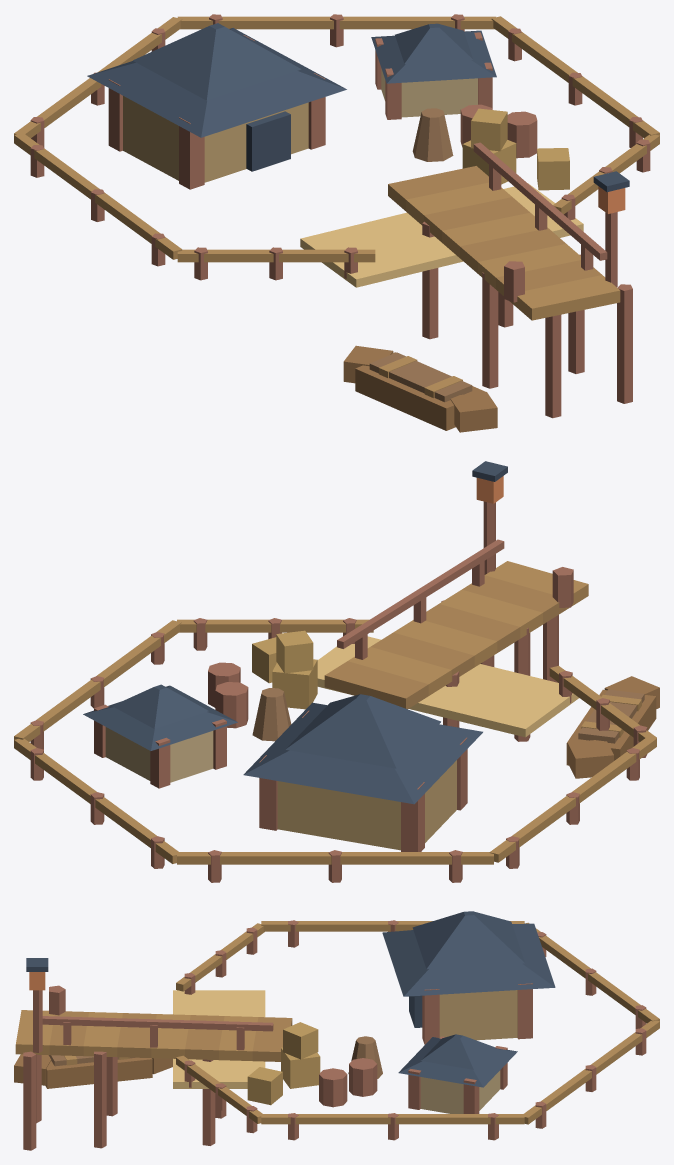
The model's file is port-small.glb.
3 views of the same model, one above another, from view 1: azimuth 30°, elevation 25°; view 2: azimuth 150°, elevation 25°; view 3: azimuth 270°, elevation 25° (orthographic). The views are drawn at different scales.
Parts seen in each view (by area): view 1: house_eave, shore_sand, house_roof, house_body, fence_rail_0, shed_eave, pier_plank_0, boat_hull, fence_rail_2, fence_rail_5, shed_body, fence_rail_3 (+32 smaller); view 2: house_eave, shore_sand, house_body, house_roof, fence_rail_1, shed_body, shed_eave, pier_plank_7, fence_rail_2, fence_rail_5, fence_rail_0, shed_roof (+30 smaller); view 3: house_eave, house_roof, shore_sand, house_body, fence_rail_5, shed_eave, rail_bar, boat_hull, shed_body, fence_rail_0, shed_roof, fence_rail_2 (+30 smaller).
Part boxes in pixels (box(x1,y1,x2,y2)): house_eave: box(87, 28, 346, 137); shore_sand: box(300, 183, 583, 287); house_roof: box(133, 23, 301, 100); house_body: box(123, 96, 308, 182); fence_rail_0: box(177, 16, 495, 29); shed_eave: box(371, 30, 496, 83); pier_plank_0: box(514, 275, 620, 320); boat_hull: box(355, 352, 485, 430); fence_rail_2: box(14, 133, 182, 259); fence_rail_5: box(491, 16, 659, 138); shed_body: box(381, 68, 477, 117); fence_rail_3: box(177, 249, 375, 262); house_eave: box(243, 702, 482, 804); shore_sand: box(317, 636, 578, 737); house_body: box(277, 760, 456, 850); house_roof: box(285, 694, 440, 768); fence_rail_1: box(177, 852, 493, 864); shed_body: box(105, 727, 213, 782); shed_eave: box(83, 685, 237, 750); pier_plank_7: box(324, 661, 428, 709); fence_rail_2: box(489, 736, 656, 862); fence_rail_5: box(14, 620, 181, 741); fence_rail_0: box(14, 739, 178, 863); shed_roof: box(112, 684, 208, 728); house_eave: box(382, 923, 555, 996); house_roof: box(412, 911, 524, 969); shore_sand: box(173, 990, 265, 1088); house_body: box(439, 990, 517, 1040); fence_rail_5: box(261, 1114, 524, 1124); shed_eave: box(398, 1037, 517, 1087); rail_bar: box(42, 1016, 273, 1031); boat_hull: box(45, 1057, 152, 1088); shed_body: box(420, 1070, 500, 1113); fence_rail_0: box(524, 1020, 659, 1124); shed_roof: box(421, 1034, 495, 1069); fence_rail_2: box(261, 921, 524, 931).
Bounding box in the file's own units: 0.861 × 0.37 × 1.19.
